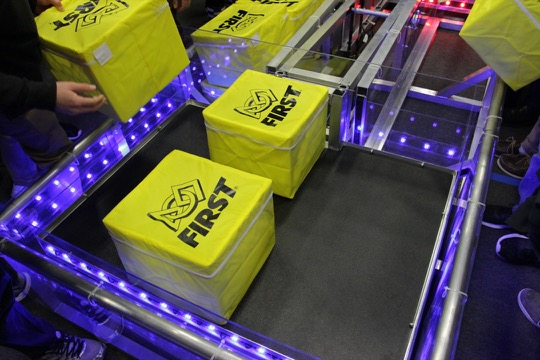cube: (101, 149, 276, 325), (30, 1, 192, 124), (201, 68, 329, 200), (191, 5, 294, 87), (457, 1, 540, 93), (240, 1, 324, 52)
